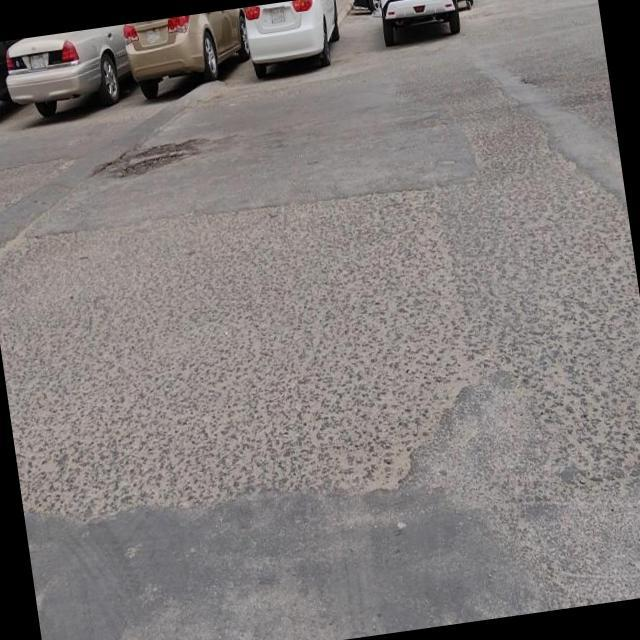Pothole: (101, 138, 198, 181)
